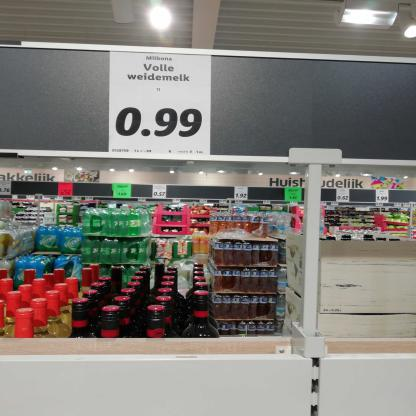prtg: (109, 52, 212, 156)
